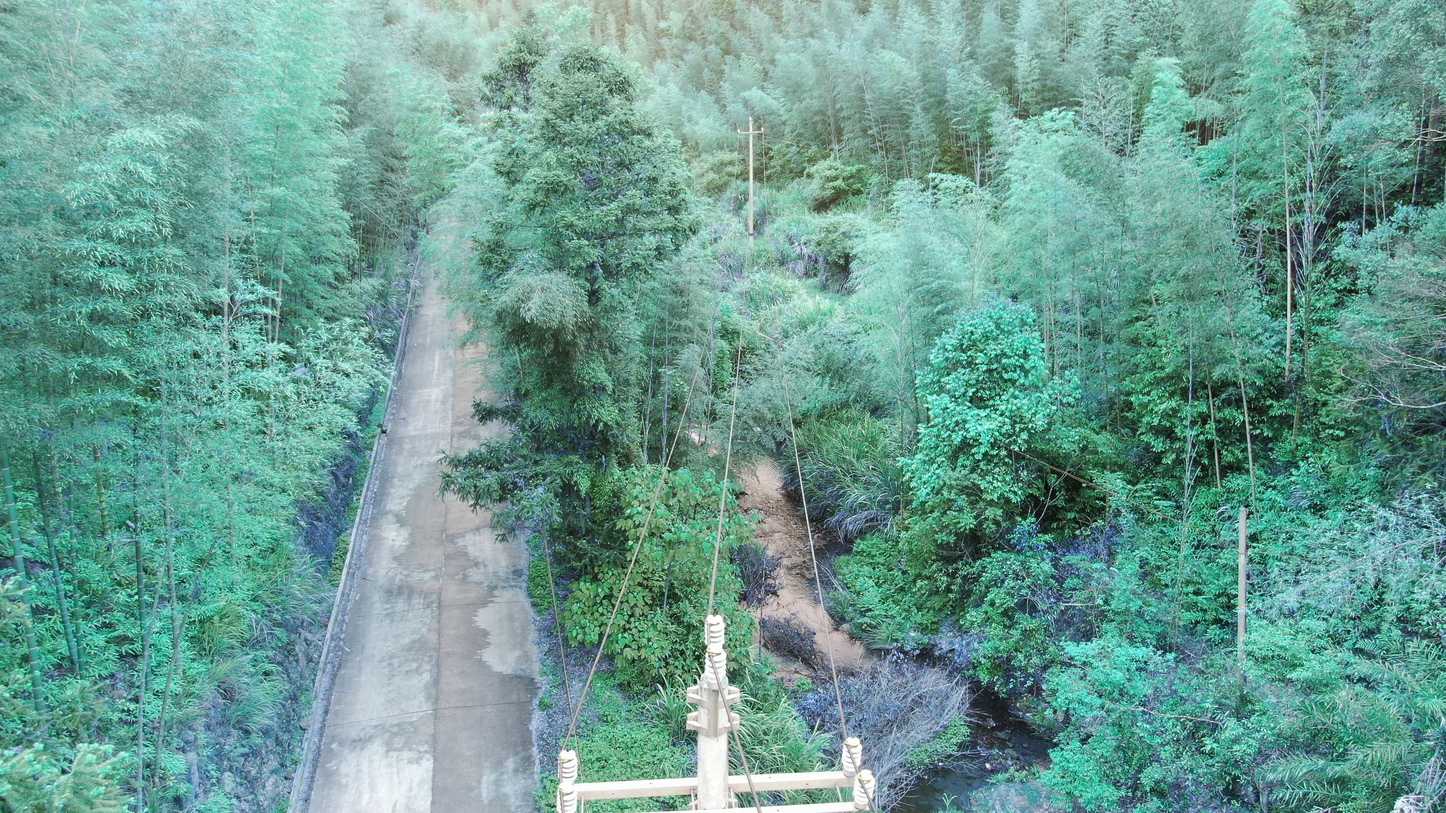severe_soiling_no_discharge_whole: (555, 749, 580, 786), (705, 645, 727, 687), (841, 737, 863, 775), (555, 779, 579, 813), (704, 612, 726, 649), (853, 770, 874, 808)
